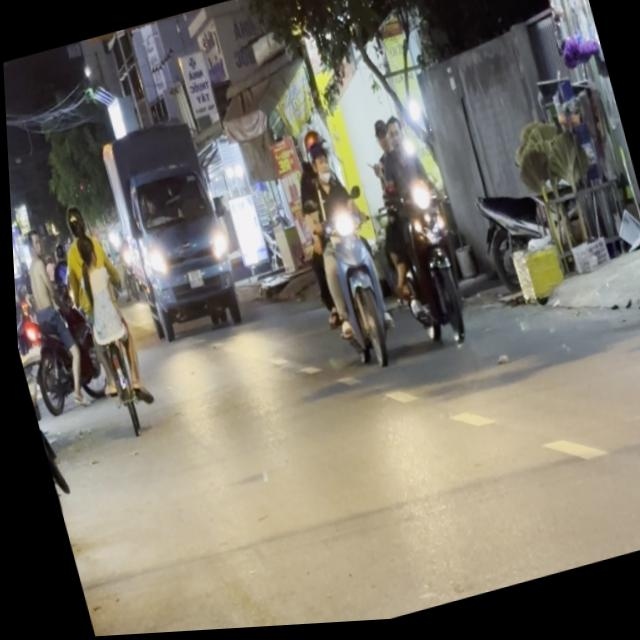helmet: (301, 139, 334, 190)
licenseplate: (271, 112, 401, 380), (347, 99, 476, 361)
motorcyclist: (366, 115, 394, 158), (380, 116, 406, 161)
